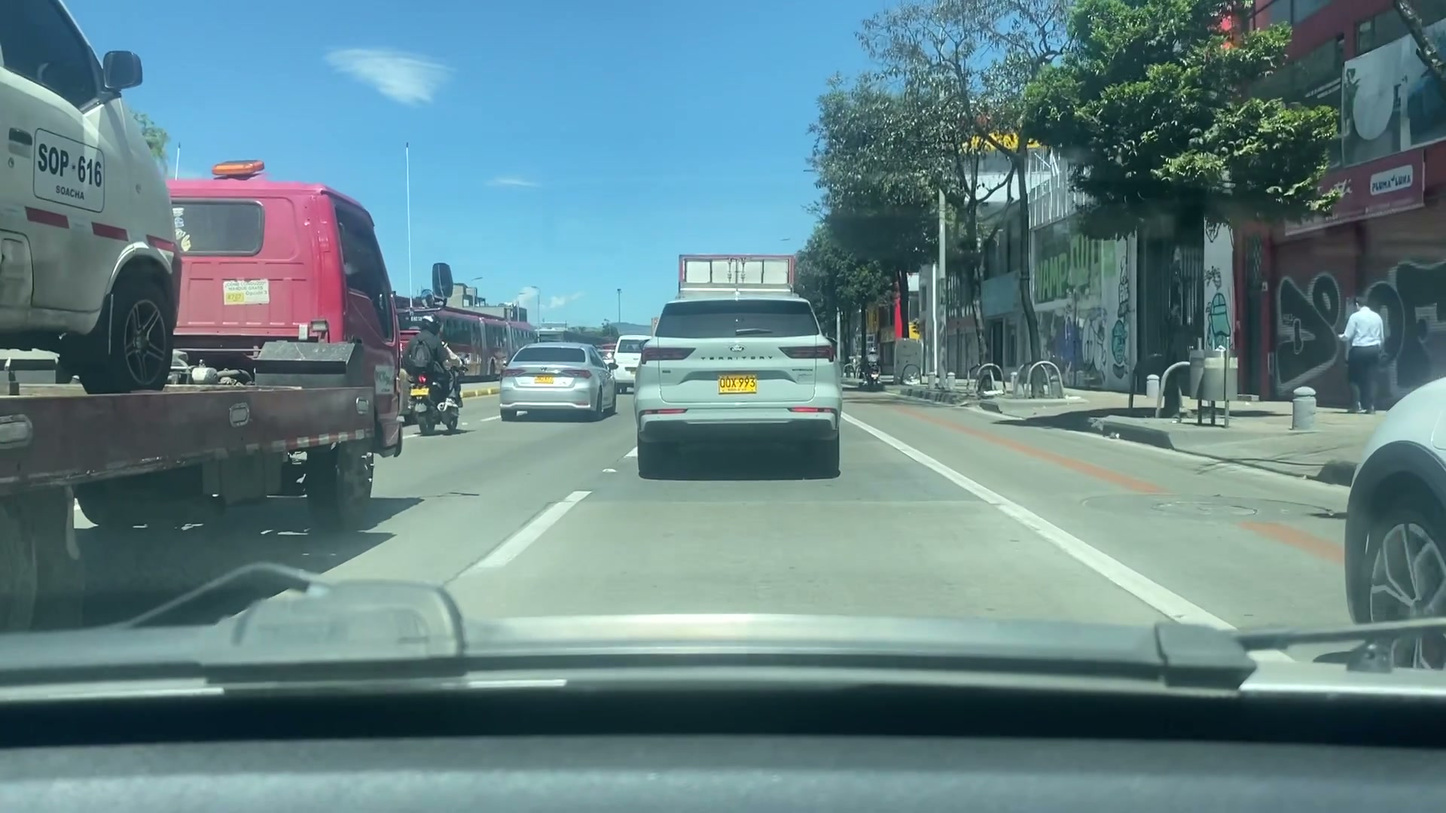bus: (0, 0, 187, 389), (612, 333, 652, 391)
car: (634, 286, 845, 477), (1327, 366, 1446, 669), (496, 341, 619, 418)
truck: (0, 160, 456, 627), (675, 251, 798, 297)
